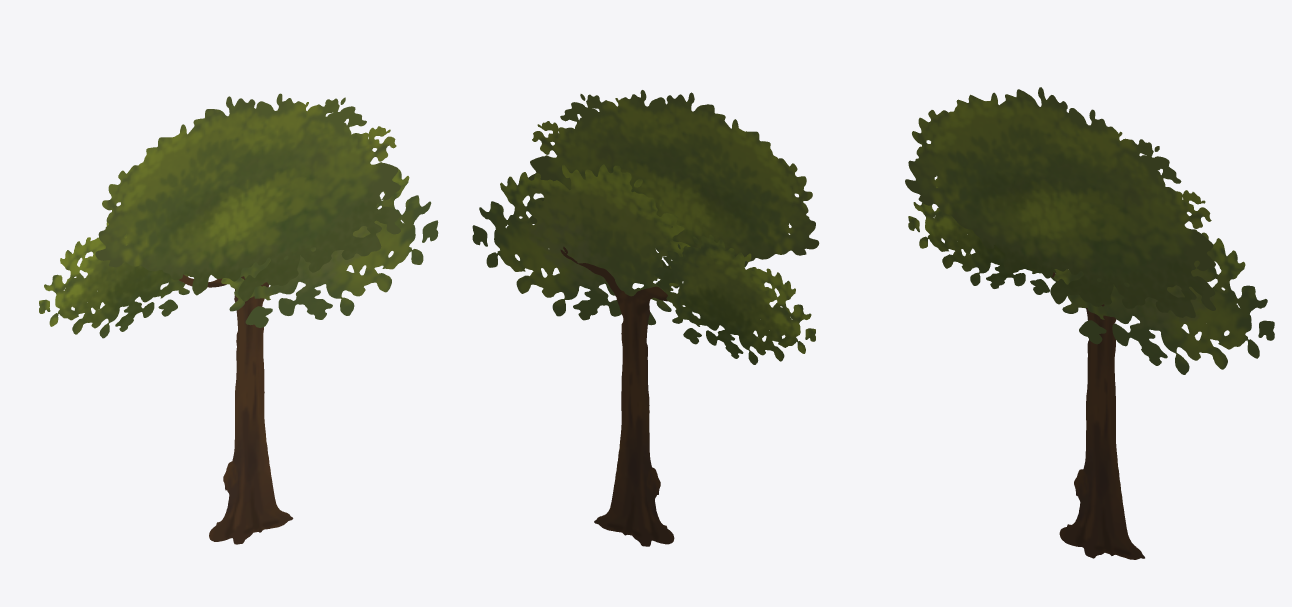
The model's file is tree_small.fbx.
3 views of the same model, side by side, from view 1: azimuth 30°, elevation 25°; view 2: azimuth 150°, elevation 25°; view 3: azimuth 330°, elevation 25° (orthographic). The views are drawn at different scales.
Parts seen in each view (by area): view 1: Plane.016; view 2: Plane.016; view 3: Plane.016.
Part boxes in pixels (x1,y1,x2,y2): Plane.016: (39,93,438,544); Plane.016: (472,90,819,546); Plane.016: (905,87,1274,559).
Bounding box in the file's own units: 260 × 319 × 33.01.
